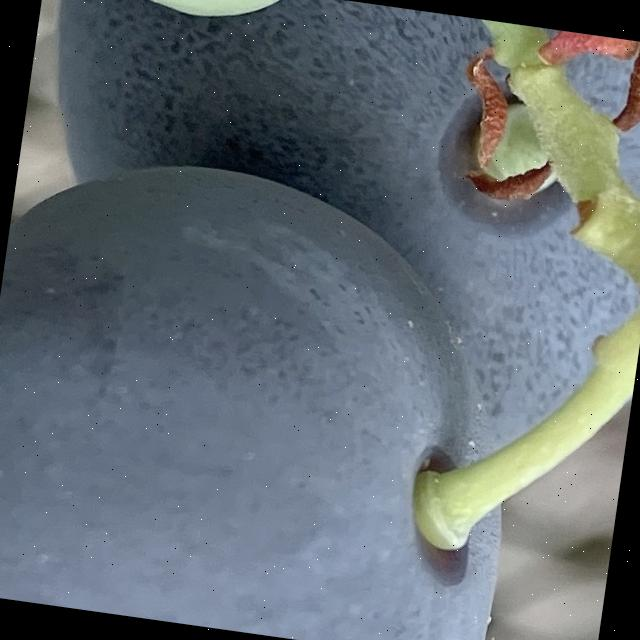Blueberries: (0, 102, 575, 640)
